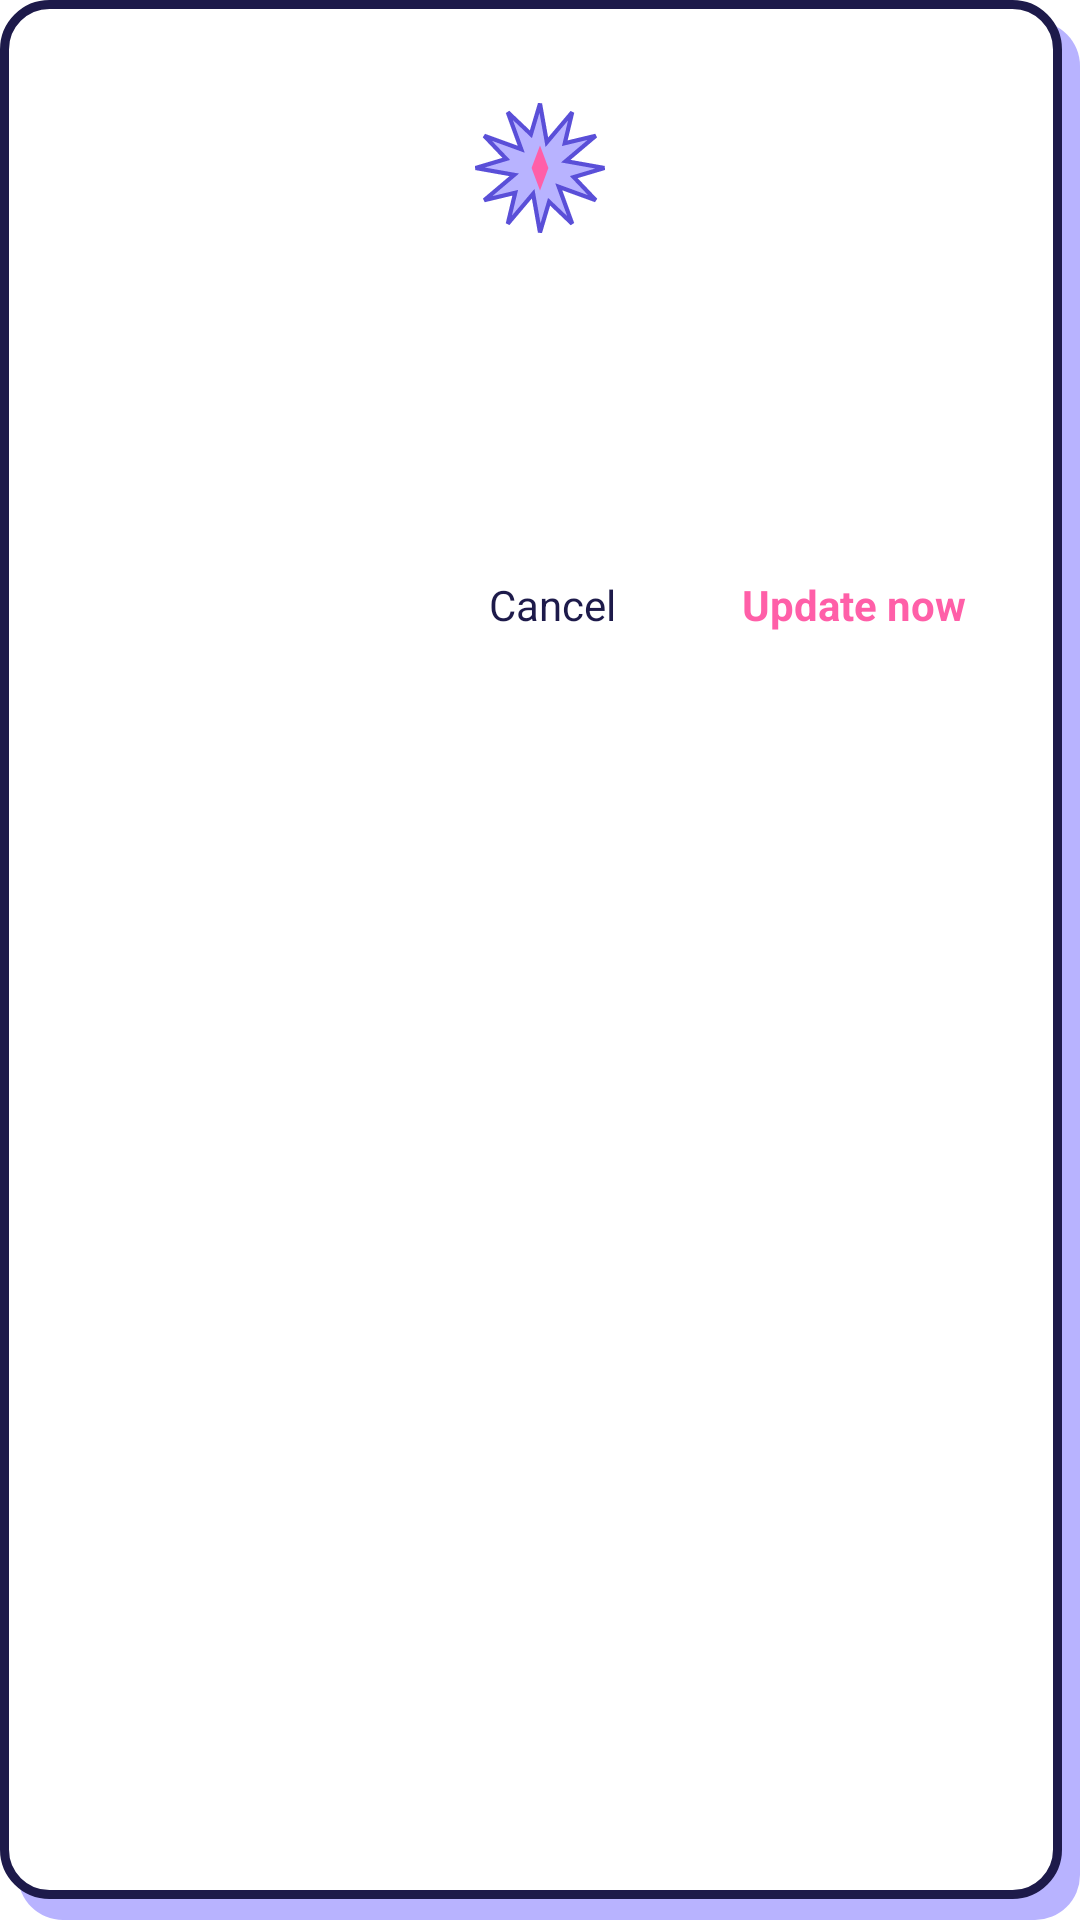

Locate icon controls on the screen. Image size 1080w x 1920h, boxes as [x1,y1,x2,y2].
sakuga burst: [475,103,605,233]
